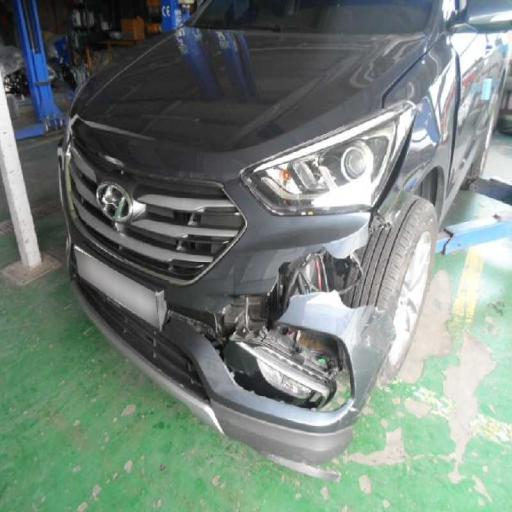broken: (196, 161, 378, 415)
scratch: (70, 242, 197, 380)
